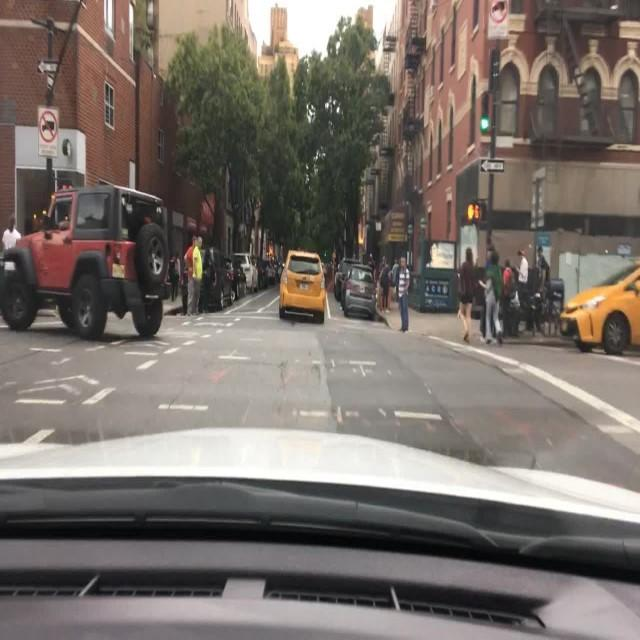normal: (0, 425, 638, 639), (4, 182, 232, 335), (566, 259, 640, 352), (276, 251, 326, 322), (337, 261, 378, 318), (230, 253, 260, 293)
